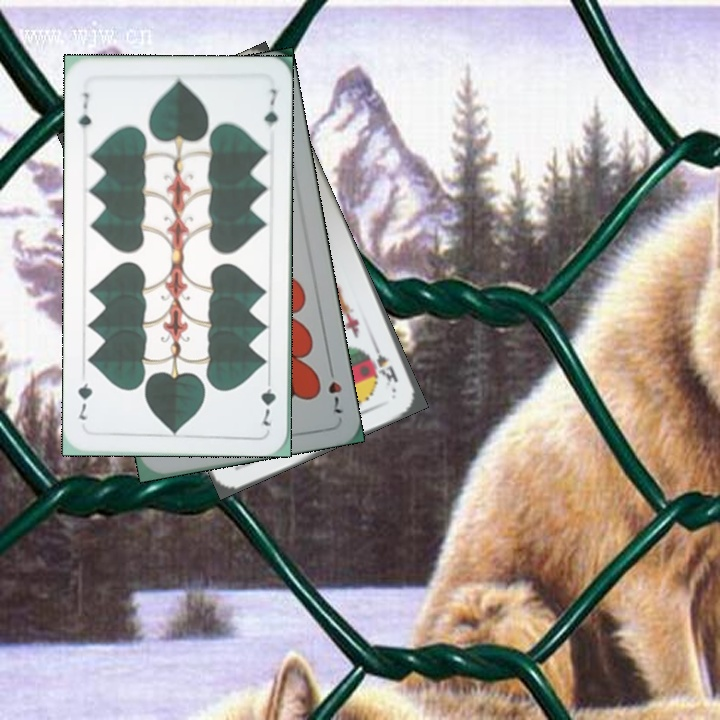G7: (256, 371, 278, 428), (74, 88, 94, 131)
H7: (324, 360, 347, 416)
SK: (368, 337, 401, 389)
